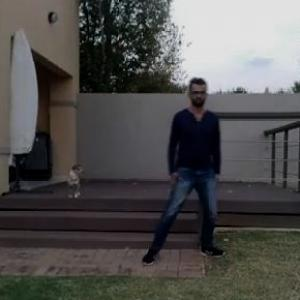follow: (166, 73, 224, 267)
